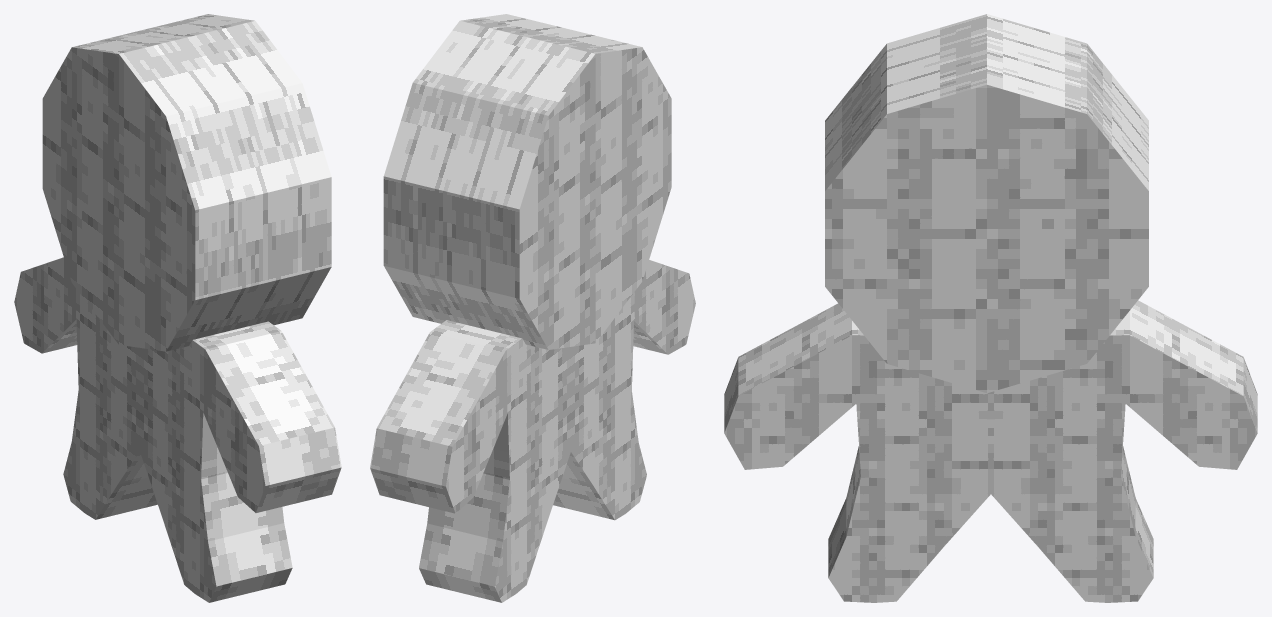
File: mod_Pinata_Dummy.fbx
The picture shows the model from 3 angles, left to right: view 1: azimuth 30°, elevation 25°; view 2: azimuth 150°, elevation 25°; view 3: azimuth 270°, elevation 25°; orthographic projection. The views are drawn at different scales.
Parts seen in each view (by area): view 1: msh_pinata_head_def, msh_pinata_body_def; view 2: msh_pinata_head_def, msh_pinata_body_def; view 3: msh_pinata_head_def, msh_pinata_body_def.
Part boxes in pixels (bbox=[...]): msh_pinata_head_def: bbox=[42, 14, 331, 351]; msh_pinata_body_def: bbox=[14, 257, 341, 602]; msh_pinata_head_def: bbox=[383, 14, 671, 349]; msh_pinata_body_def: bbox=[370, 260, 695, 602]; msh_pinata_head_def: bbox=[825, 14, 1148, 393]; msh_pinata_body_def: bbox=[724, 300, 1257, 602].
Bounding box in the file's own units: 29.27 × 104 × 93.33.
1 material, 1 textured.
